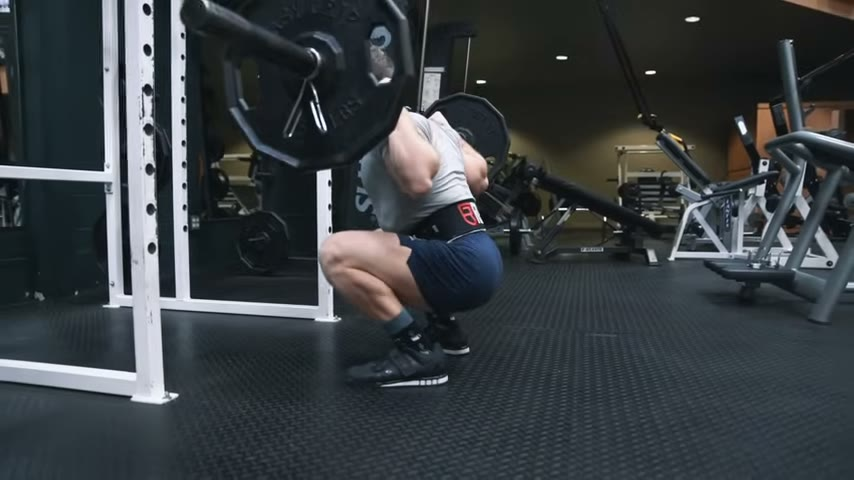barbell_plate_side: (208, 0, 285, 185)
